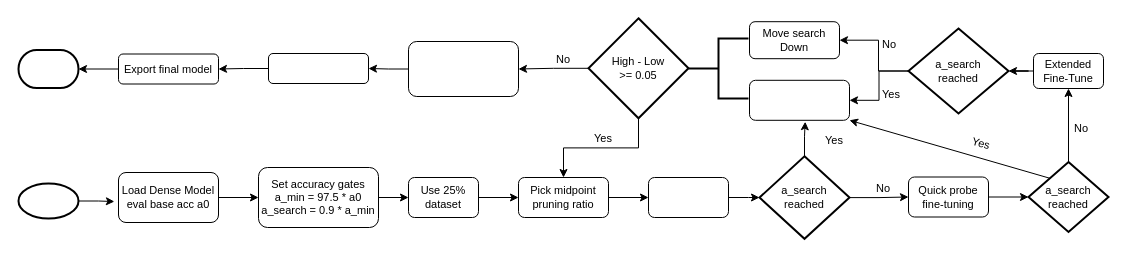
The diagram is 1126 pixels wide and 257 high, and some of its shapes have lost their labels. Here are the shapes that lost their labels. From the top down, the centre of each, then its label:
the point at 48,68: End
the point at 318,68: Final fine-tune
the point at 463,68: Restore full data and best checkpoint
the point at 799,99: Move search up and checkpoint
the point at 48,200: Start
the point at 688,197: Restore and Prune Model
